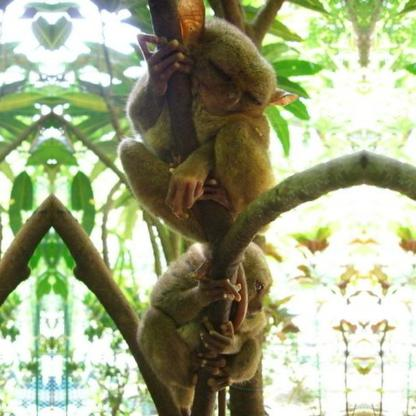Monkey: (113, 40, 283, 310), (133, 244, 289, 414)
